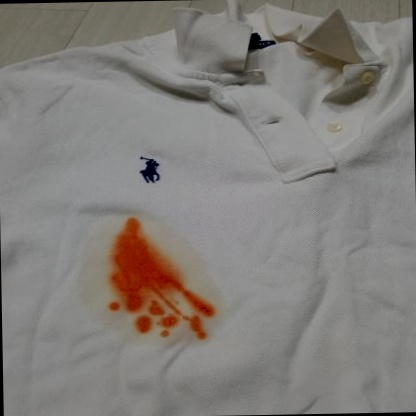kimchi: (80, 214, 217, 342), (111, 254, 180, 287), (112, 216, 155, 255), (183, 291, 224, 317), (187, 317, 212, 340), (121, 293, 142, 317), (146, 294, 167, 317), (132, 312, 152, 335), (157, 312, 178, 328), (107, 299, 117, 313), (156, 329, 168, 339)
